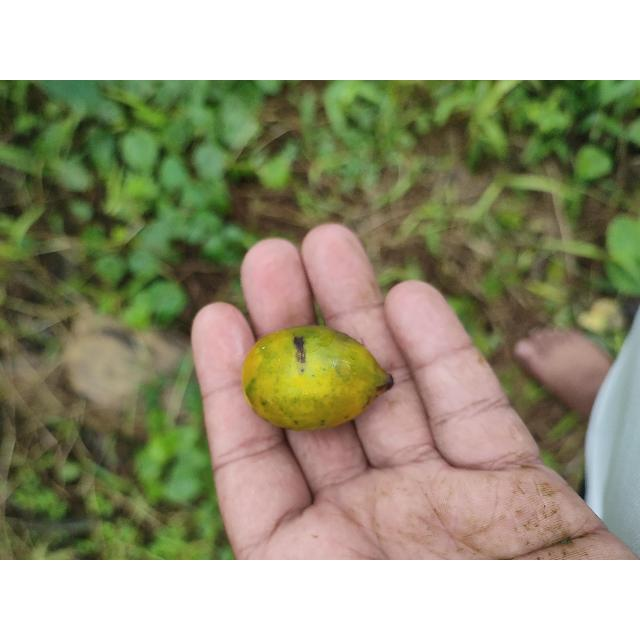damaged: (240, 325, 394, 433)
